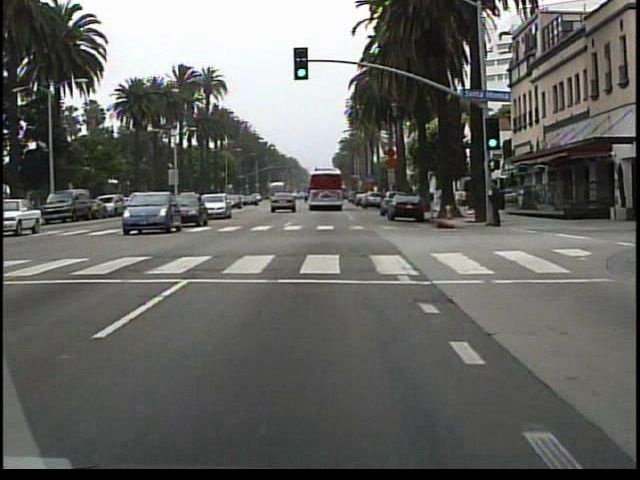person: (488, 177, 505, 231)
